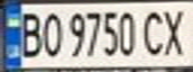0: (118, 7, 142, 57)
5: (100, 7, 121, 57)
7: (81, 8, 103, 57)
9: (63, 8, 87, 59)
B: (15, 8, 45, 59)
C: (139, 7, 169, 56)
O: (39, 8, 63, 59)
X: (157, 5, 193, 57)
